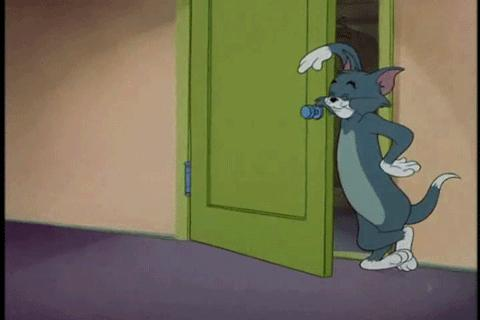tom: (296, 40, 462, 272)
